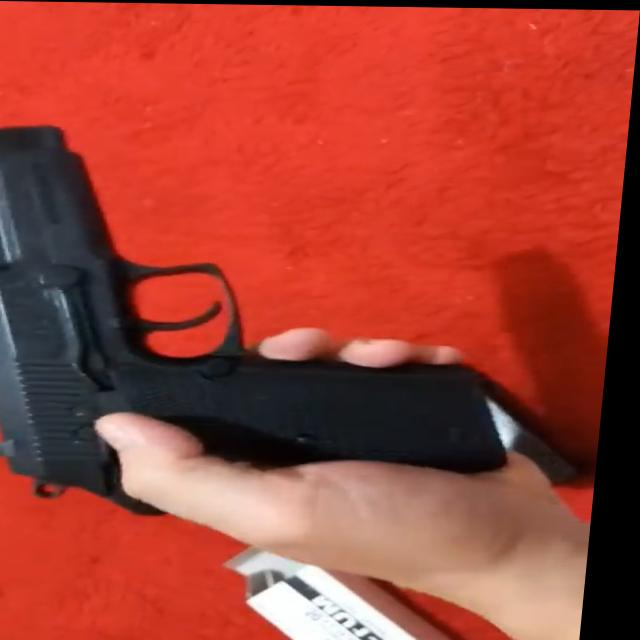handgun: (0, 112, 548, 504)
